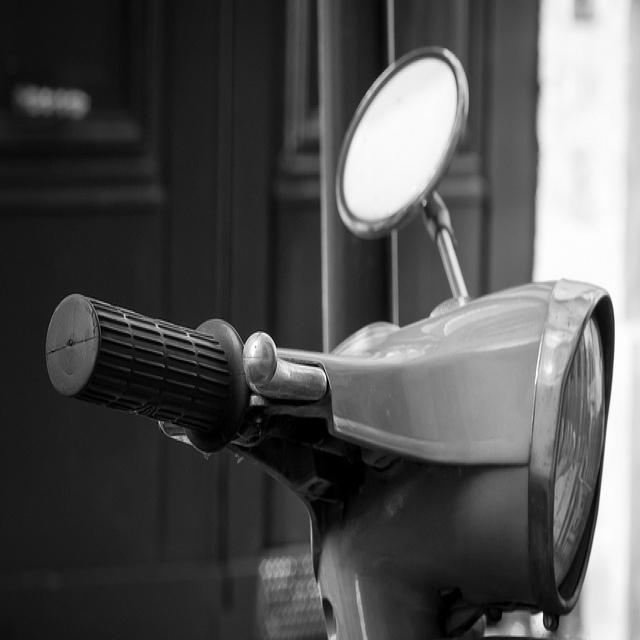motor: (45, 47, 617, 640)
